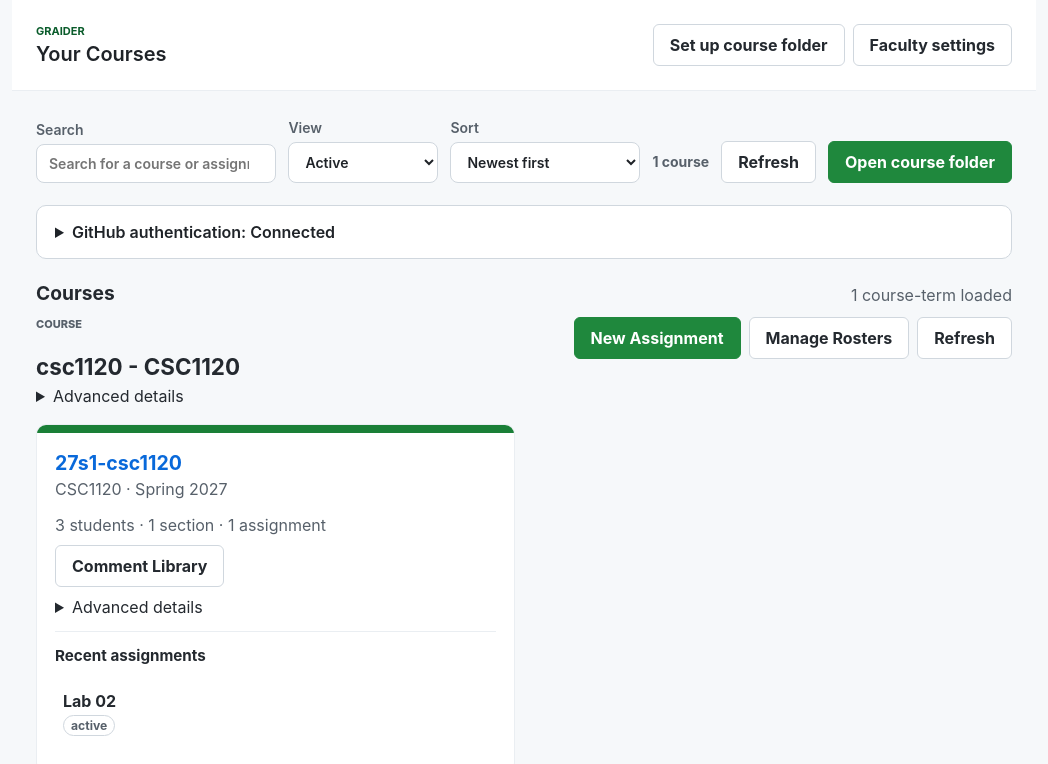
App routing — reached from the dashboard › renders no-grading assignment detail cleanly
Click the button with aria-label "Open assignment detail for Lab 02". click: (90, 701)
box: left=55, top=683, right=496, bottom=744
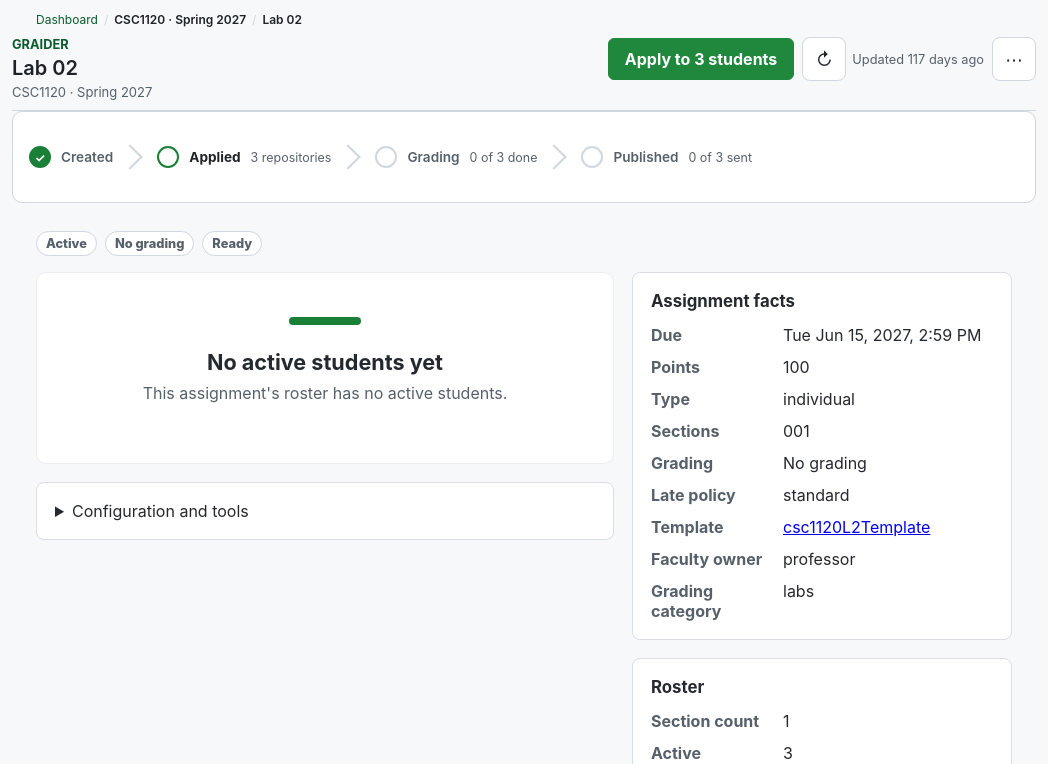
Expected: the heading "Lab 02" is shown, left=12, top=56, right=78, bottom=80
Expected: the text "No grading" is shown 2 times, left=105, top=231, right=194, bottom=256; left=783, top=453, right=867, bottom=473
